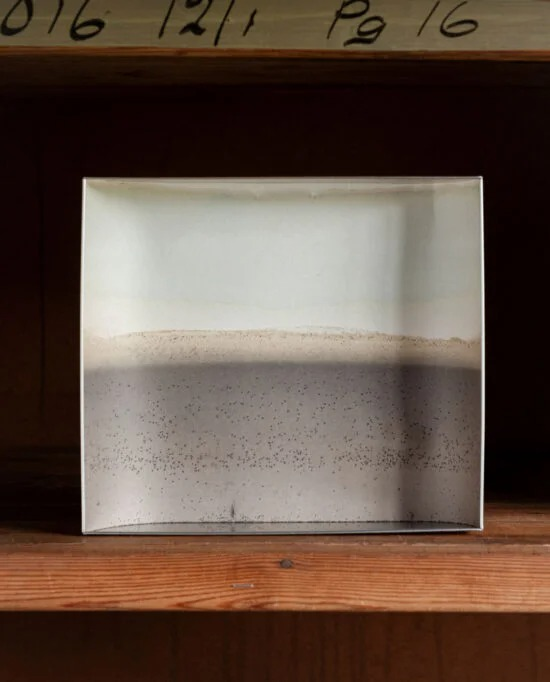painting: (81, 176, 484, 536)
